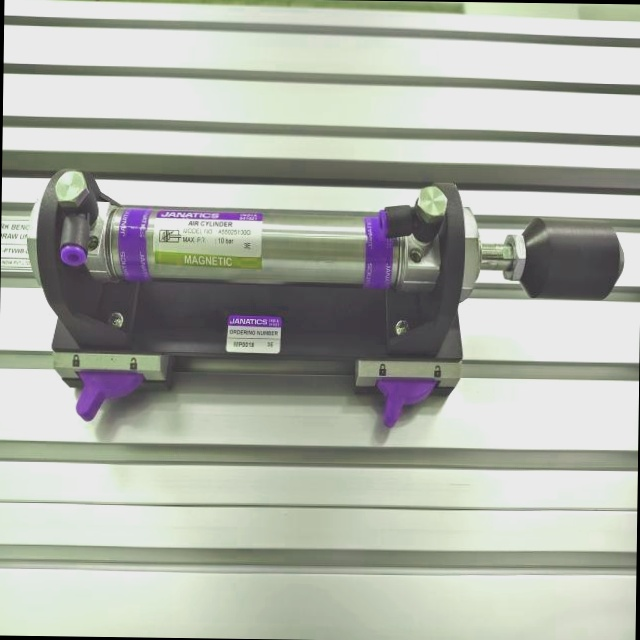double acting pneumatic cylinder: (23, 163, 623, 437)
push button: (24, 166, 625, 431)
